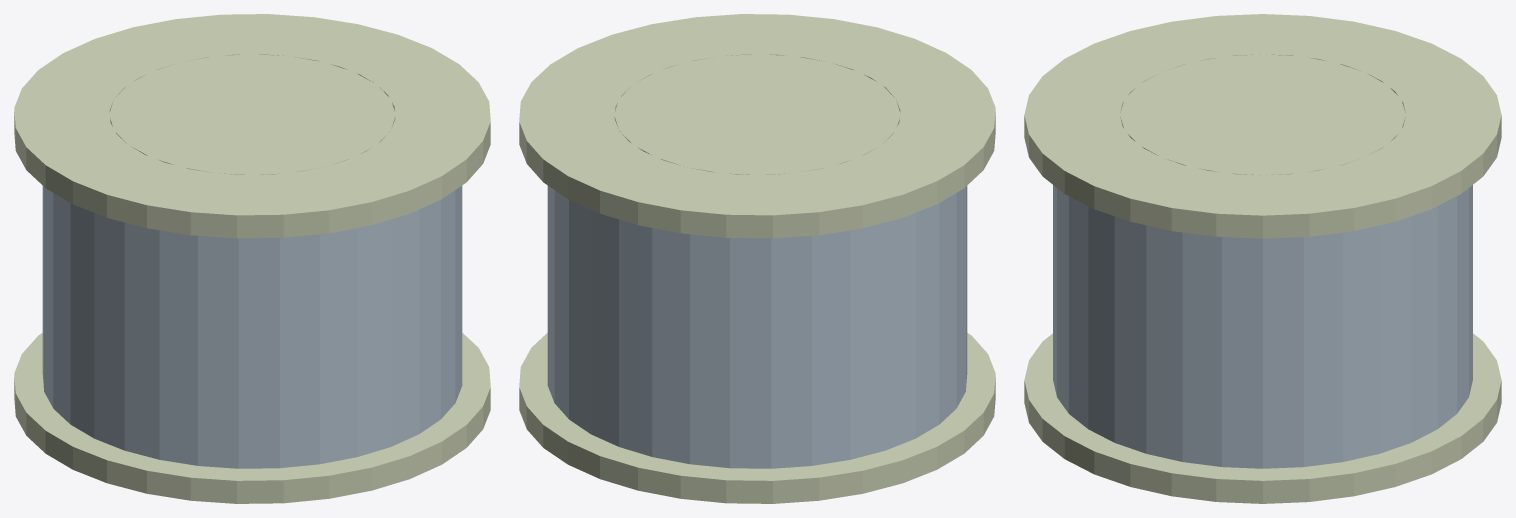
Rendered from bobine_de_ficelle.glb.
3 renders of one model, left to right at view 1: azimuth 30°, elevation 25°; view 2: azimuth 150°, elevation 25°; view 3: azimuth 270°, elevation 25°, orthographic.
Parts seen in each view (by area): view 1: bois, ficelle; view 2: bois, ficelle; view 3: bois, ficelle.
Part boxes in pixels (x1,y1,x2,y2): bois: (14,14,490,503); ficelle: (42,186,462,468); bois: (519,14,995,503); ficelle: (547,186,967,468); bois: (1024,14,1501,503); ficelle: (1053,185,1472,468).
Size of the model in its own units: 0.15 by 0.1 by 0.15.
